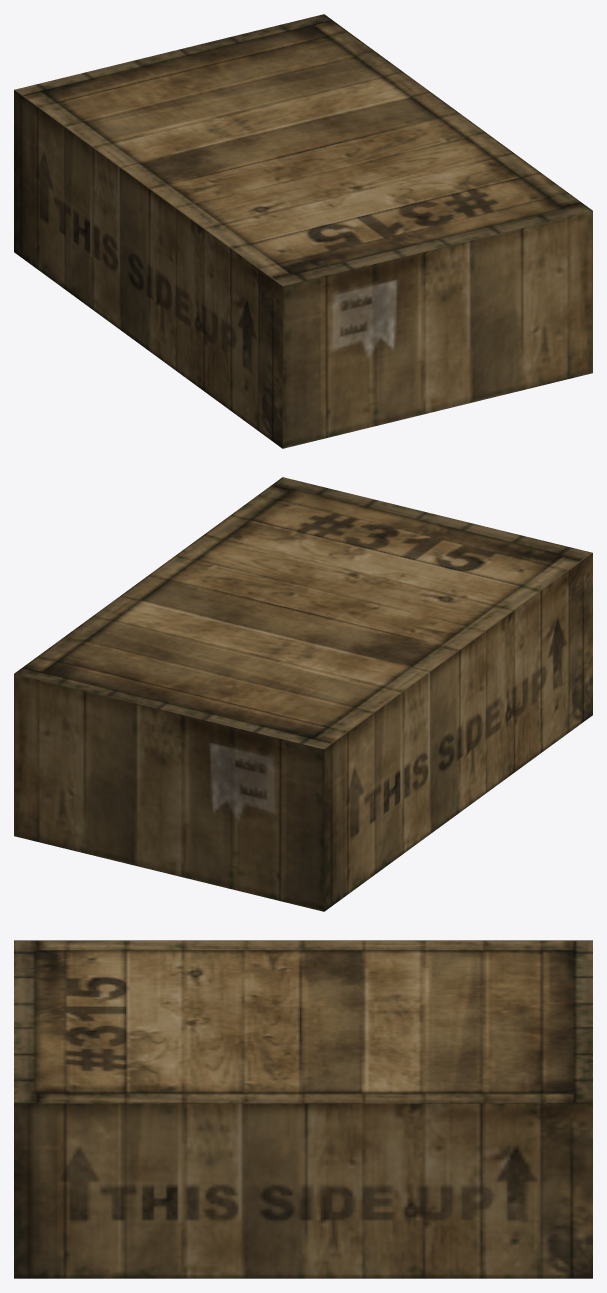
The model's file is cratec2.gltf.
3 renders of one model, top to bottom at view 1: azimuth 30°, elevation 25°; view 2: azimuth 150°, elevation 25°; view 3: azimuth 270°, elevation 25°, orthographic. The views are drawn at different scales.
Visible parts, largest first — view 1: cratec; view 2: cratec; view 3: cratec.
Boxes of the visible parts, x1,y1,x2,y2 form: cratec: (14,14,592,448); cratec: (14,477,592,911); cratec: (14,940,592,1278).
Size of the model in its own units: 1 by 0.5 by 1.5.
1 material, 1 textured.
